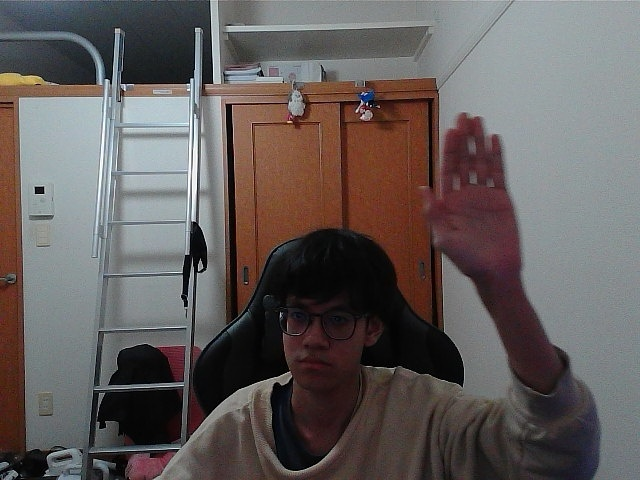open_palm: (427, 122, 500, 267)
